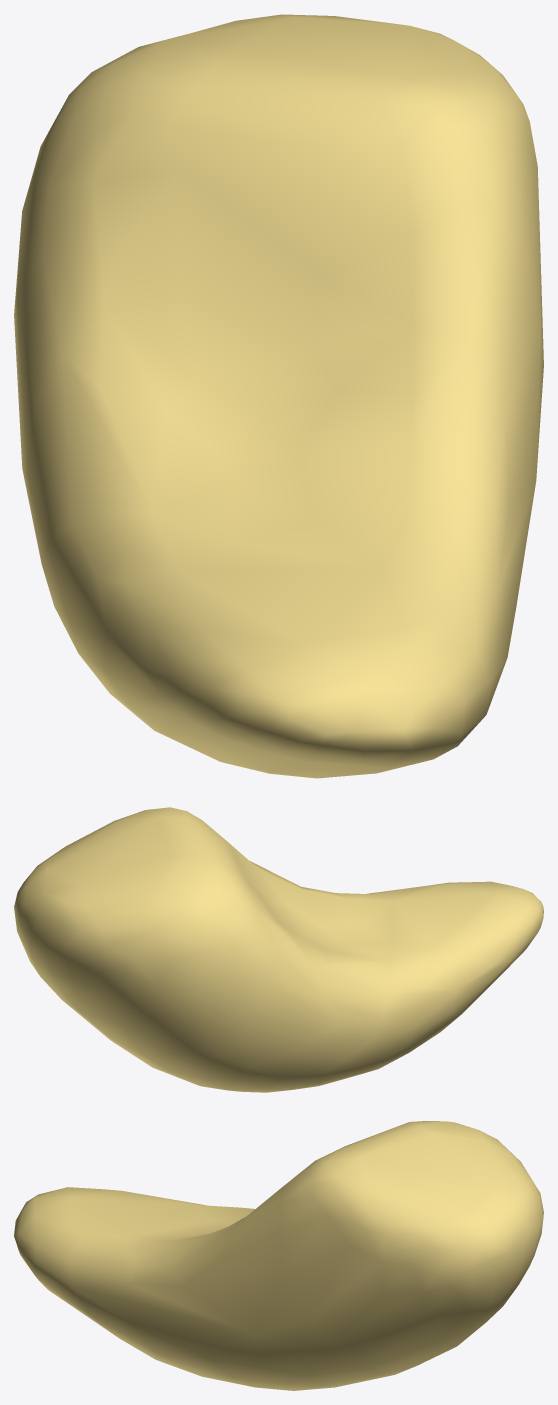
3 views of the same model, one above another, from view 1: azimuth 30°, elevation 25°; view 2: azimuth 150°, elevation 25°; view 3: azimuth 270°, elevation 25° (orthographic). The views are drawn at different scales.
Visible parts, largest first — view 1: ZA_37cada537bd07103; view 2: ZA_37cada537bd07103; view 3: ZA_37cada537bd07103.
Boxes of the visible parts, x1,y1,x2,y2 form: ZA_37cada537bd07103: [14, 14, 543, 778]; ZA_37cada537bd07103: [14, 807, 543, 1092]; ZA_37cada537bd07103: [14, 1121, 543, 1390].
Bounding box in the file's own units: 0.00822 × 0.00623 × 0.0114.
